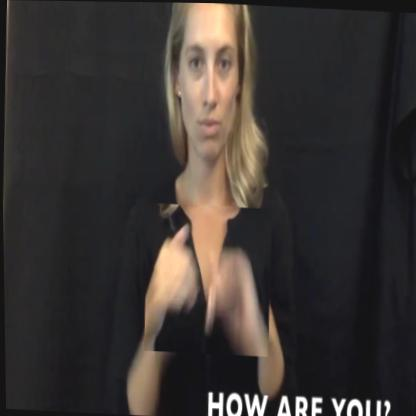HowAreYou: (142, 203, 273, 356)
